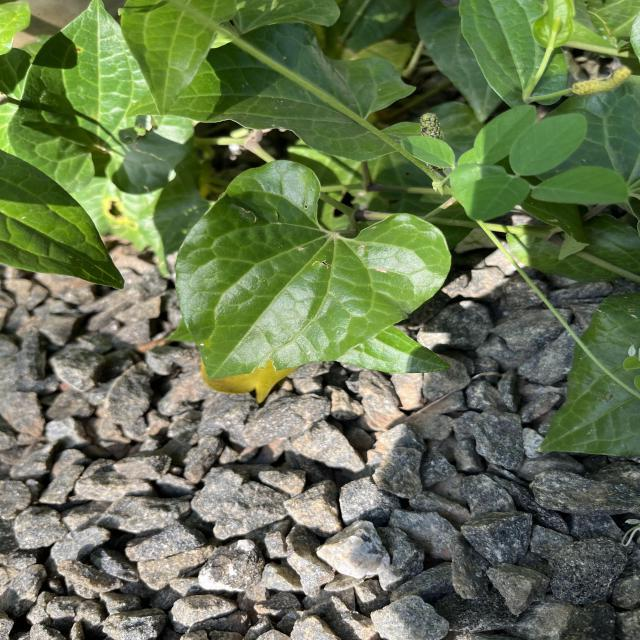Piper longum: (172, 156, 455, 382)
